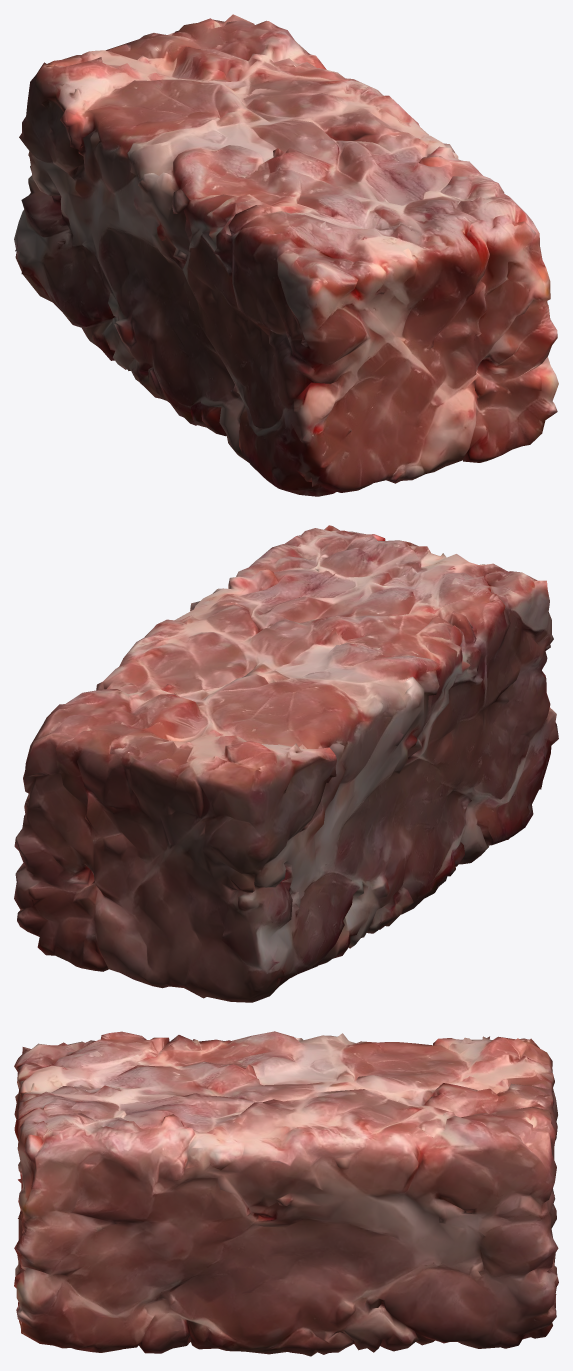
File: meat_slab_a.glb
The picture shows the model from 3 angles, top to bottom: view 1: azimuth 30°, elevation 25°; view 2: azimuth 150°, elevation 25°; view 3: azimuth 270°, elevation 25°; orthographic projection. The views are drawn at different scales.
Visible parts, largest first — view 1: meat_slab_a / mesh; view 2: meat_slab_a / mesh; view 3: meat_slab_a / mesh.
Boxes of the visible parts, <box> form: meat_slab_a / mesh: <box>14,14,558,496</box>; meat_slab_a / mesh: <box>14,525,558,1002</box>; meat_slab_a / mesh: <box>14,1031,558,1356</box>.
Bounding box in the file's own units: 0.1477 × 0.1333 × 0.28.
Materials: 1 (1 with a texture image).
